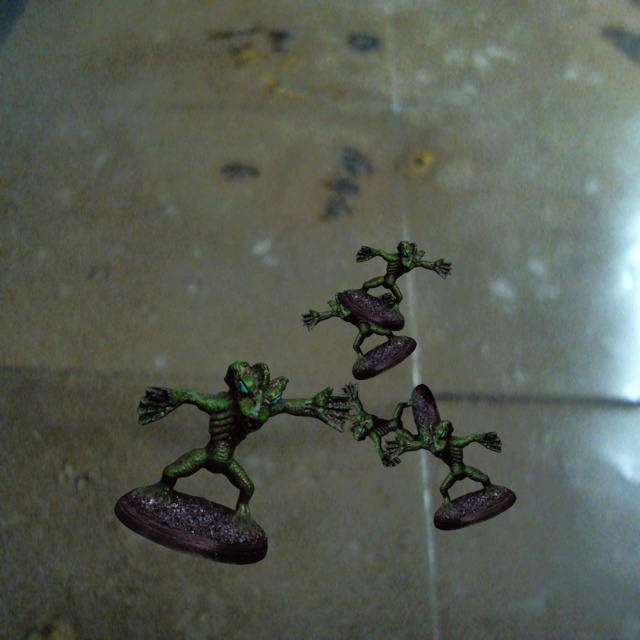pieza_juego: (114, 361, 354, 564), (383, 419, 516, 530), (301, 289, 416, 379), (339, 240, 452, 330), (341, 381, 442, 467)
